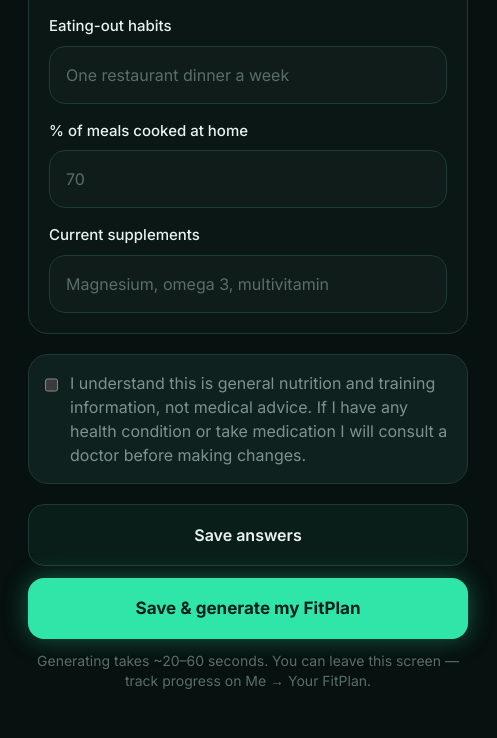
it: the regeneration cooldown › shows the server's own rate-limit message and adopts its cooldown
The width and height of the screenshot is (497, 738).
(page scrolled)
Click the checkbox at (52, 384), box [45, 374, 58, 394]
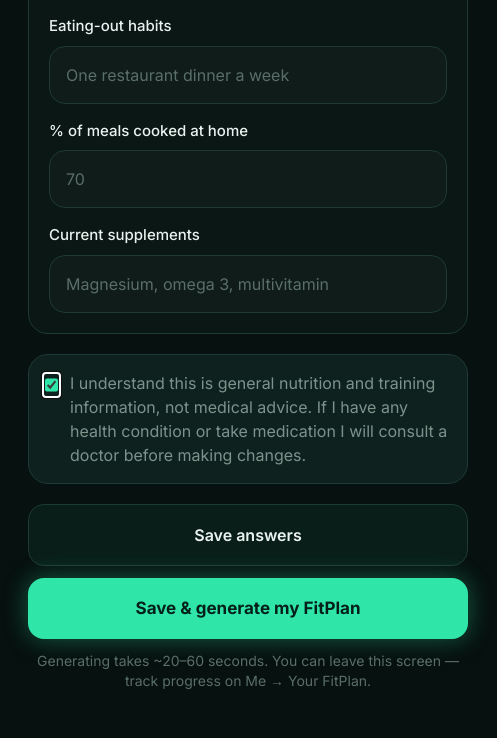
Click the button "Save & generate my FitPlan" at (248, 608), box [28, 578, 468, 639]
(page scrolled)
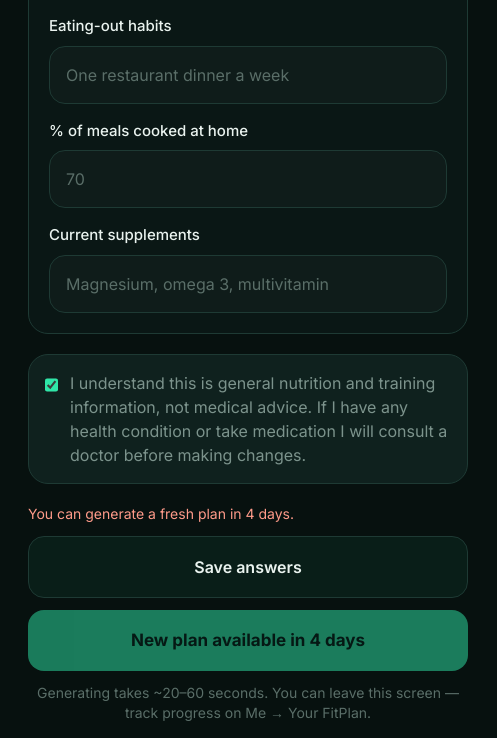
Check: the text "You can generate a fresh plan in 4 days." is shown, box [28, 504, 294, 522]
Check: the button "New plan available in 4 days" is disabled, box [28, 610, 468, 671]
